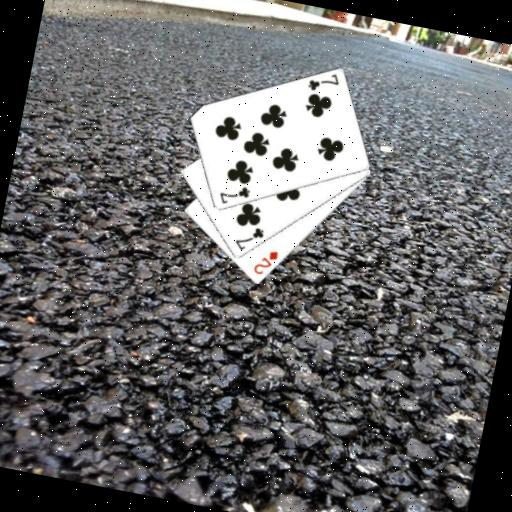2D: (250, 245, 281, 280)
7C: (231, 221, 268, 256), (304, 66, 342, 98), (215, 179, 253, 210)
